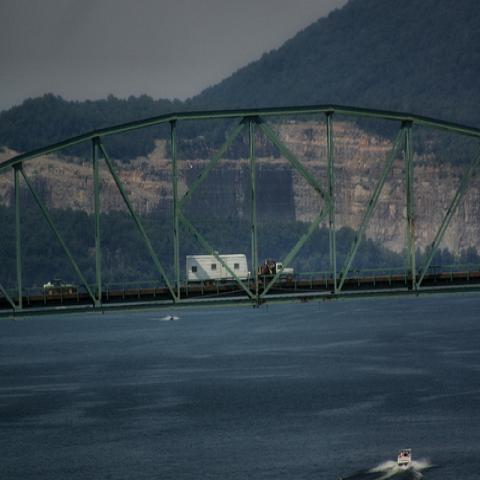car: (42, 279, 76, 295)
truck: (185, 254, 294, 284)
